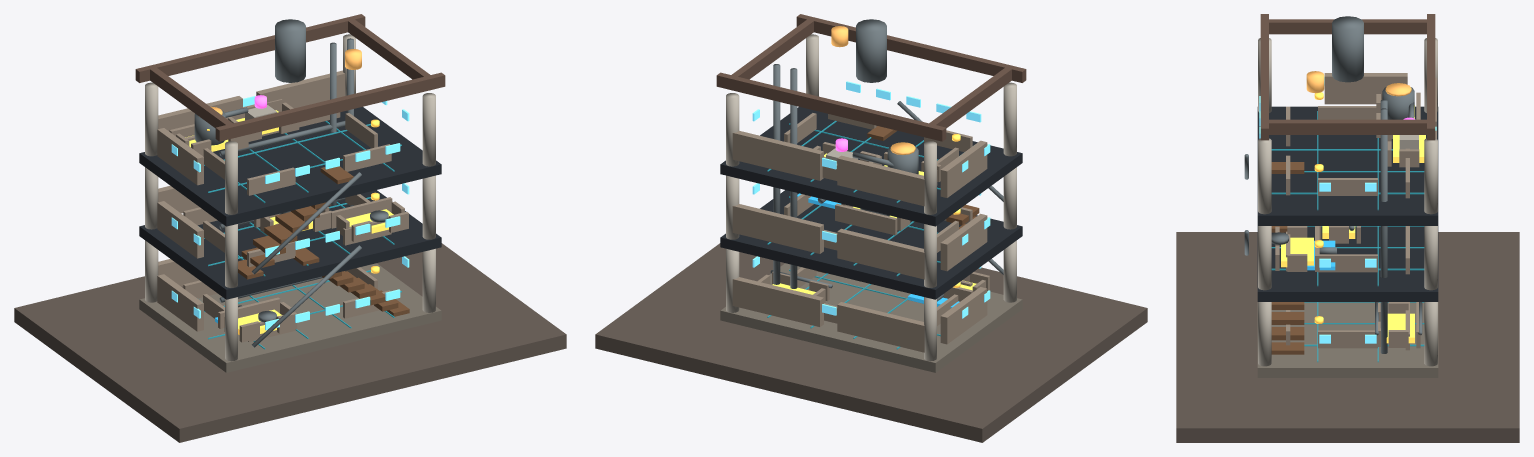
3 views of the same model, side by side, from view 1: azimuth 30°, elevation 25°; view 2: azimuth 150°, elevation 25°; view 3: azimuth 270°, elevation 25° (orthographic). The views are drawn at different scales.
Visible parts, largest first — view 1: ProfileGround.003, BuildingFloor_3, BuildingFloor_1, BuildingFloor_2, RoofSouth, RoofNorth, BuildingVerticalLandmark, BackWall_3_1, SideWall_1, SideWall_3, SideWall_2, RoofWest (+22 smaller); view 2: ProfileGround.003, BuildingFloor_3, BuildingFloor_1, BuildingFloor_2, RoofNorth, BackWall_1_1, BackWall_2_1, BackWall_3_1, BackWall_3_-1, BackWall_1_-1, BackWall_2_-1, RoofSouth (+20 smaller); view 3: ProfileGround.003, BuildingFloor_3, BuildingFloor_2, BuildingFloor_1, RoofEast, BuildingVerticalLandmark, RoofWest, SideWall_3, VerticalPipe_1, RoofNorth, RoofSouth, Column_3_1_-1 (+24 smaller).
Boxes of the visible parts, box(x1,y1,x2,y2) form: ProfileGround.003: box(14, 243, 566, 442); BuildingFloor_3: box(139, 107, 441, 226); BuildingFloor_1: box(139, 263, 441, 372); BuildingFloor_2: box(139, 190, 441, 299); RoofSouth: box(215, 72, 445, 141); RoofNorth: box(135, 14, 365, 82); BuildingVerticalLandmark: box(275, 19, 305, 82); BackWall_3_1: box(256, 70, 345, 108); SideWall_1: box(157, 274, 203, 331); SideWall_3: box(157, 128, 203, 185); SideWall_2: box(157, 201, 203, 258); RoofWest: box(149, 67, 232, 128); ProfileGround.003: box(595, 243, 1147, 442); BuildingFloor_3: box(720, 107, 1022, 226); BuildingFloor_1: box(720, 263, 1022, 372); BuildingFloor_2: box(720, 190, 1022, 299); RoofNorth: box(716, 72, 946, 141); BackWall_1_1: box(732, 277, 823, 326); BackWall_2_1: box(732, 204, 823, 253); BackWall_3_1: box(732, 130, 823, 180); BackWall_3_-1: box(837, 155, 924, 206); BackWall_1_-1: box(837, 302, 924, 352); BackWall_2_-1: box(837, 228, 924, 279); RoofSouth: box(796, 14, 1026, 82); ProfileGround.003: box(1176, 232, 1519, 442); BuildingFloor_3: box(1257, 106, 1438, 225); BuildingFloor_2: box(1257, 226, 1438, 301); BuildingFloor_1: box(1257, 302, 1438, 377); RoofEast: box(1269, 119, 1426, 134); BuildingVerticalLandmark: box(1332, 16, 1363, 82); RoofWest: box(1269, 19, 1427, 34); SideWall_3: box(1324, 73, 1407, 104); VerticalPipe_1: box(1380, 108, 1387, 353); RoofNorth: box(1427, 14, 1435, 140); RoofSouth: box(1260, 14, 1268, 140); Column_3_1_-1: box(1258, 138, 1271, 214).
Size of the model in its own units: 5.76 by 4.4 by 4.26.
